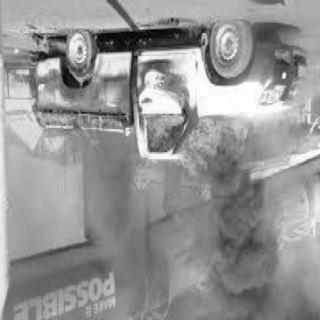Fire: (144, 115, 244, 181), (72, 68, 98, 96)
